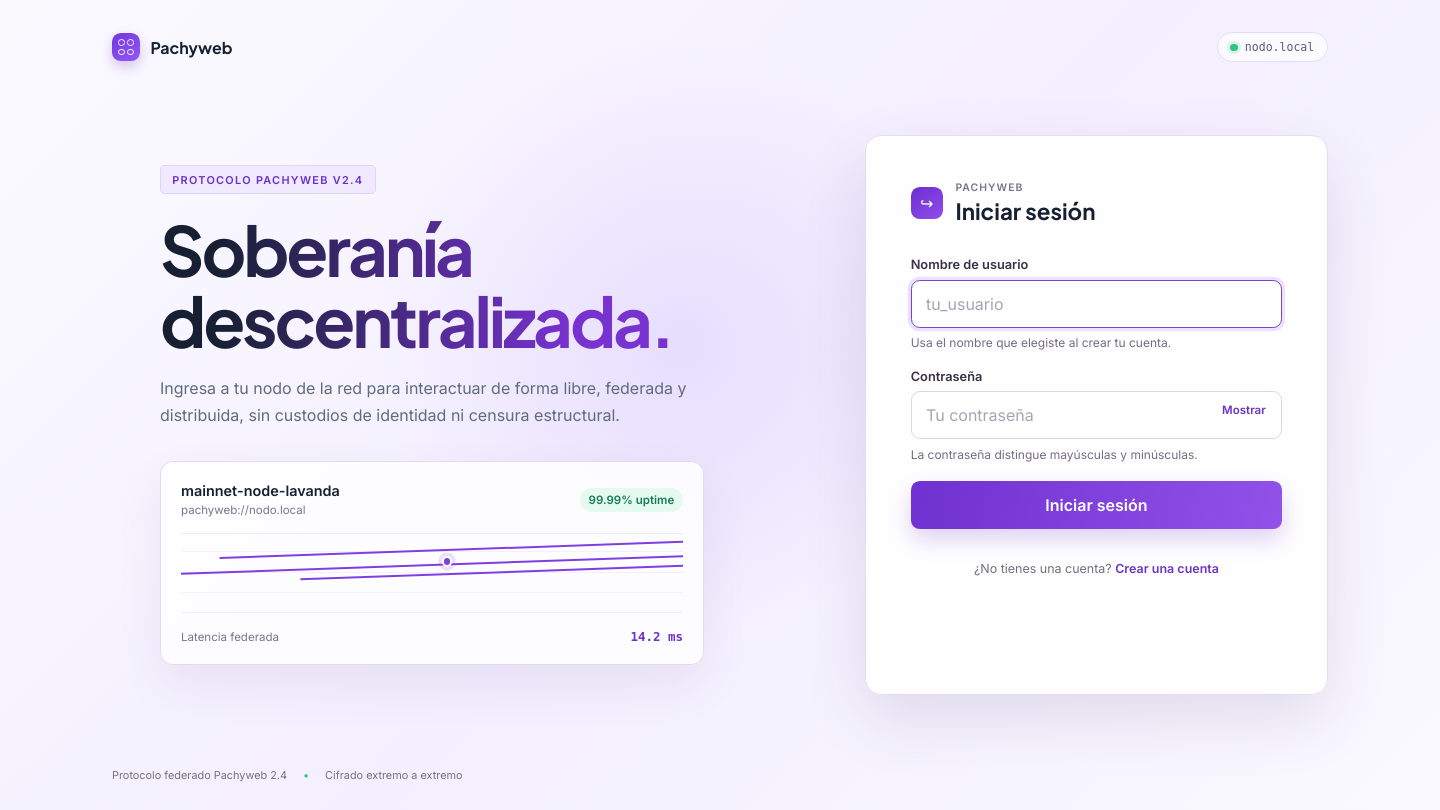
Test case: no permite enviar mensajes a una cuenta que no está registrada
Type "oscar" into the field labelled "Nombre de usuario" at point(1096, 304), box [911,280,1282,328]
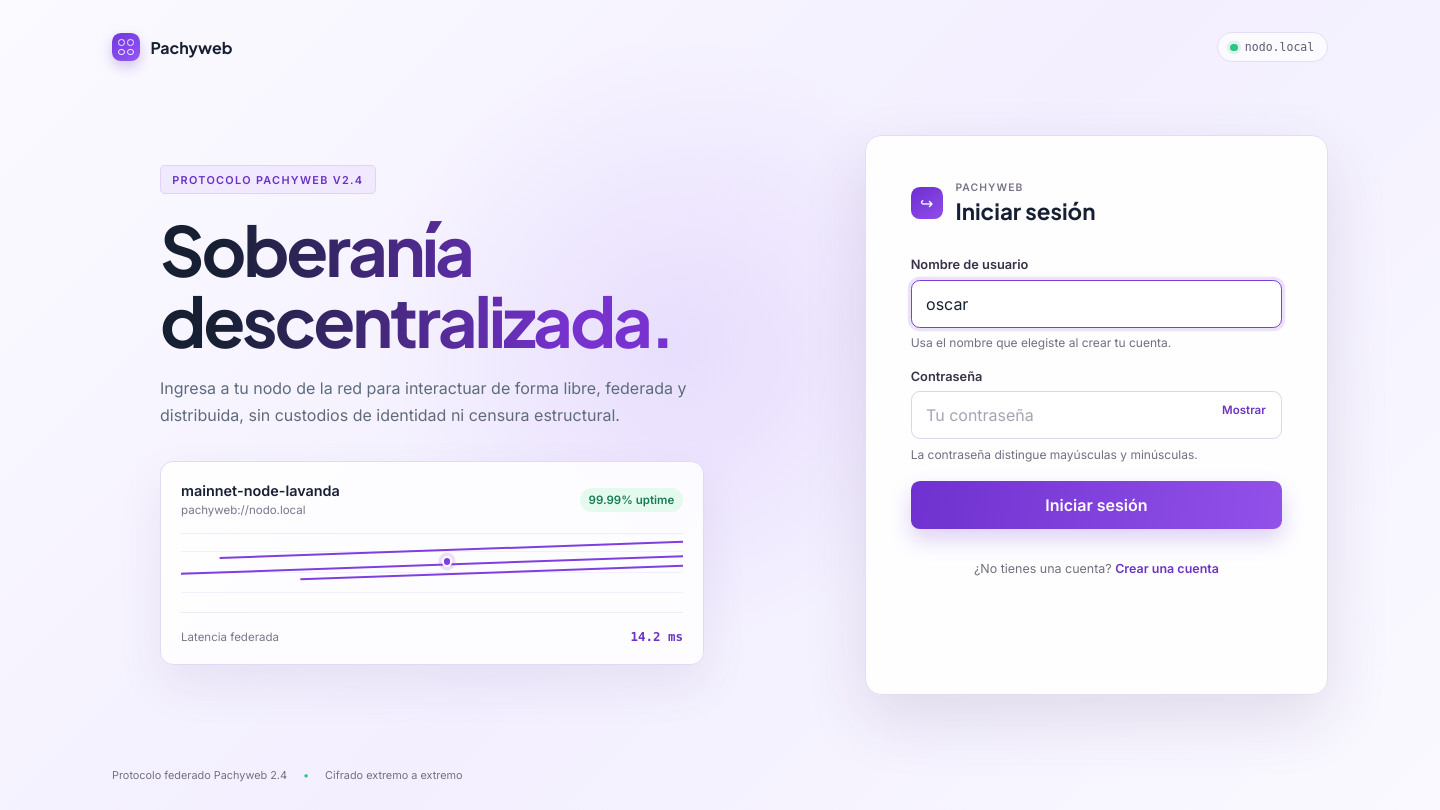
Type "password123" into the password field labelled "Contraseña" at point(1096, 415), box [911,391,1282,439]
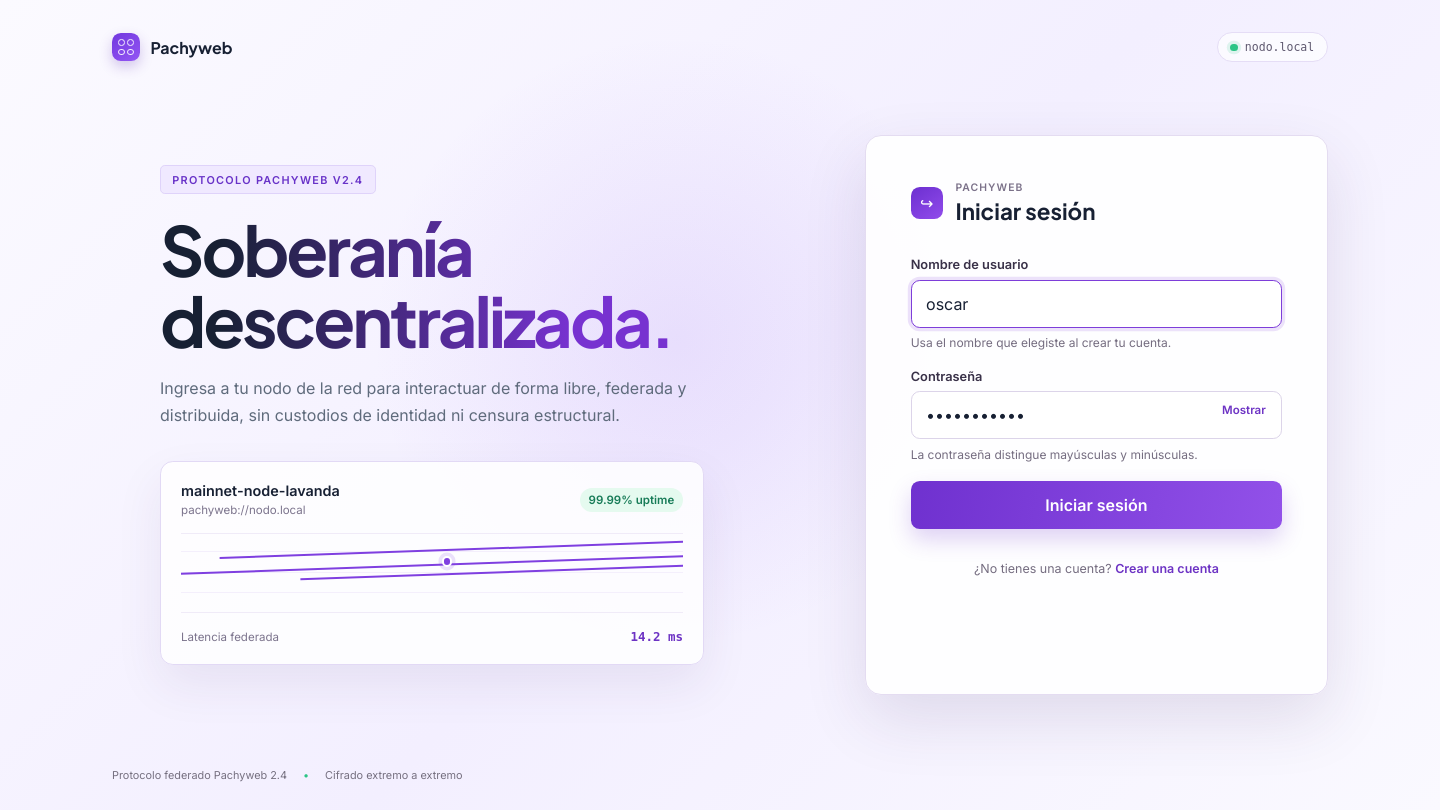
Click the button "Iniciar sesión" at point(1096, 505), box [911,481,1282,529]
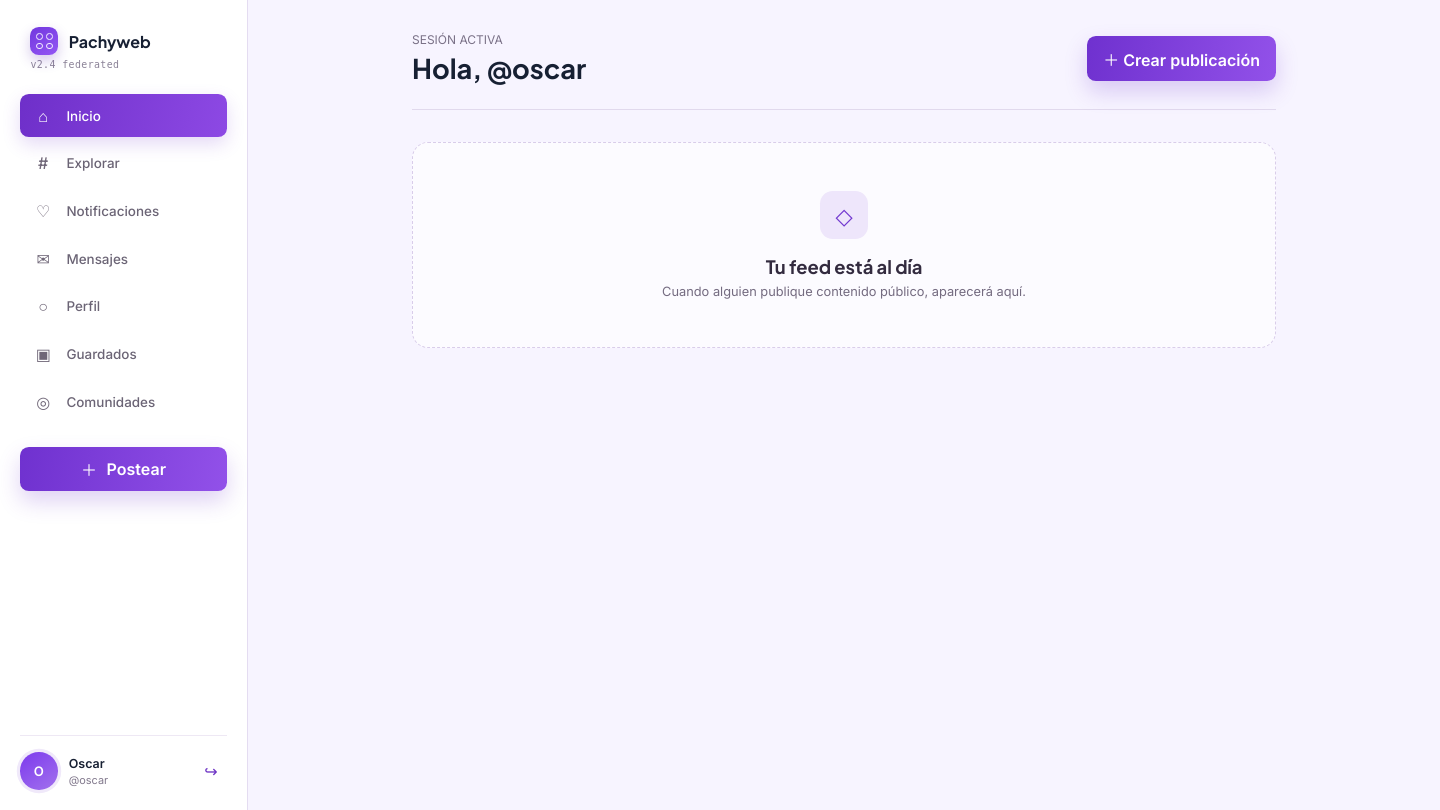
Click the link "✉ Mensajes" at point(82, 259), box [36,249,128,269]
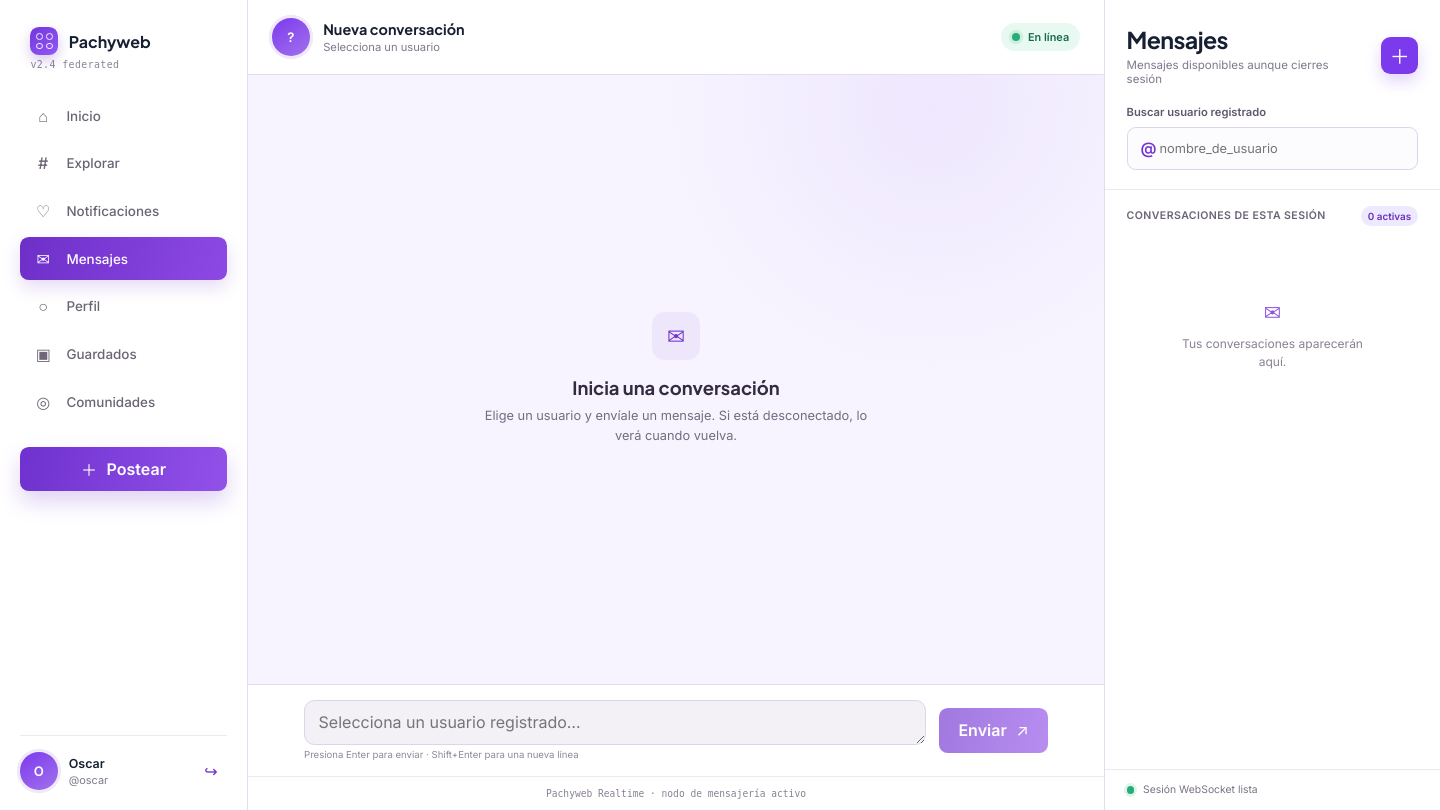
Type "usuario_fantasma" into the field labelled "Buscar usuario registrado" at point(1287, 148), box [1156,128,1417,169]
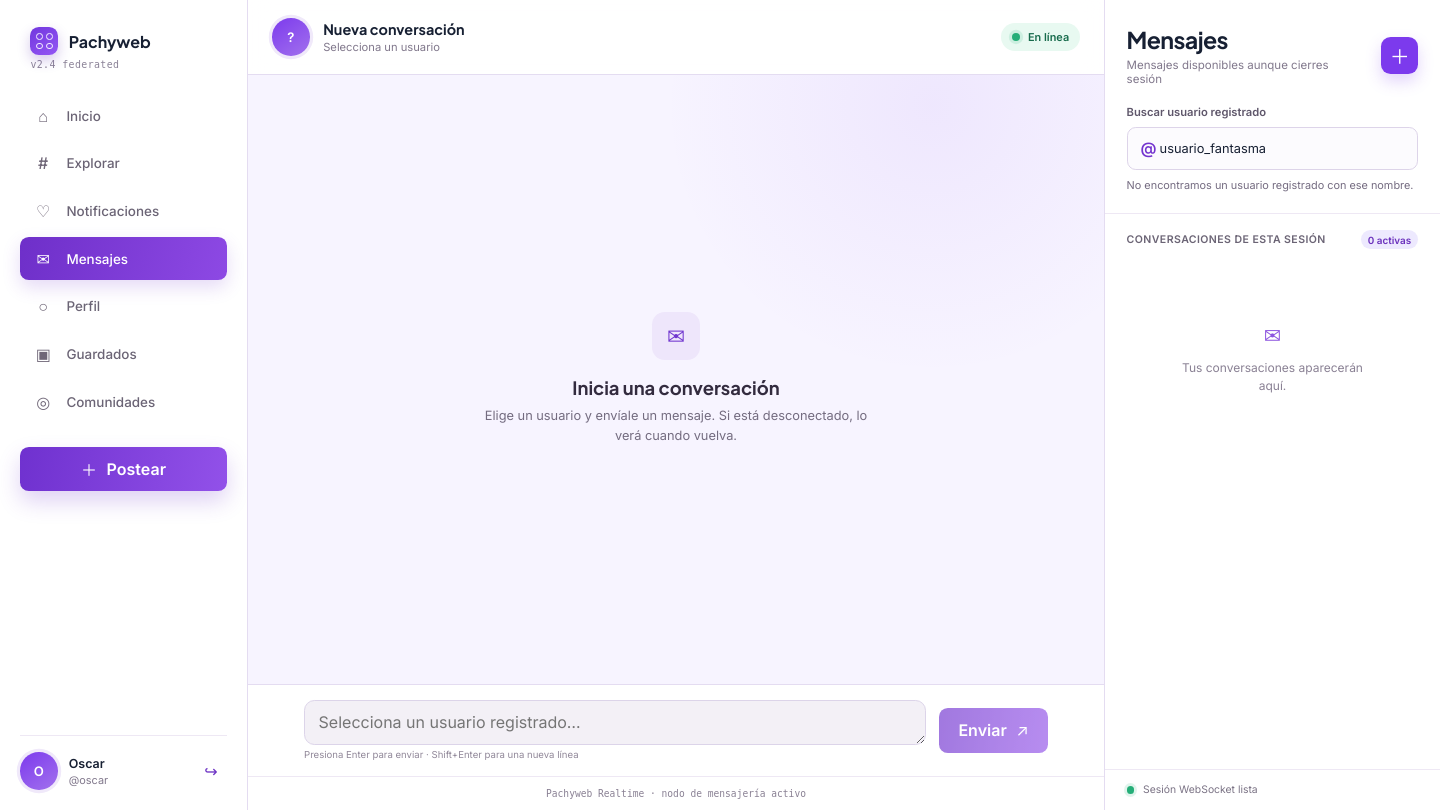
Expected: the text box named "Mensaje" is disabled, [304,700,926,745]
Expected: the button "Enviar ↗" is disabled, [939,708,1048,753]
Expected: the text "No encontramos un usuario registrado con ese nombre." is shown, [1127,178,1418,194]
